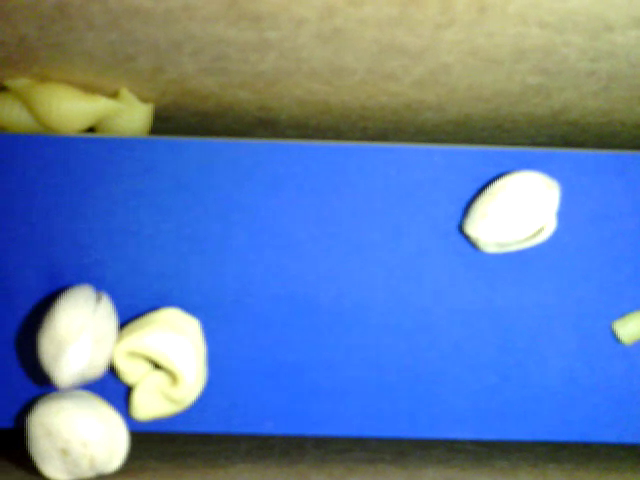elbow: (612, 310, 639, 343)
shell: (1, 74, 135, 134), (90, 80, 156, 138), (1, 92, 58, 134)
tortellini: (113, 306, 204, 424)
